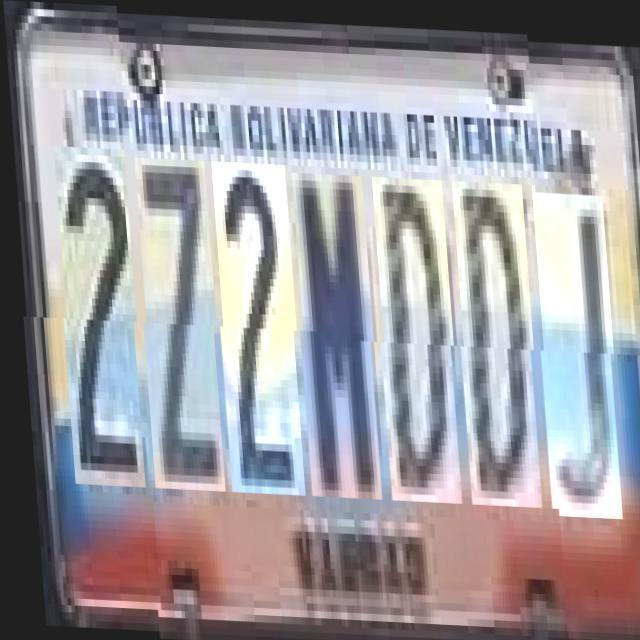2: (208, 159, 302, 493), (52, 152, 142, 493)
D: (369, 173, 458, 499), (449, 177, 538, 502)
J: (529, 180, 618, 506)
M: (289, 170, 378, 496)
Z: (132, 156, 222, 490)
